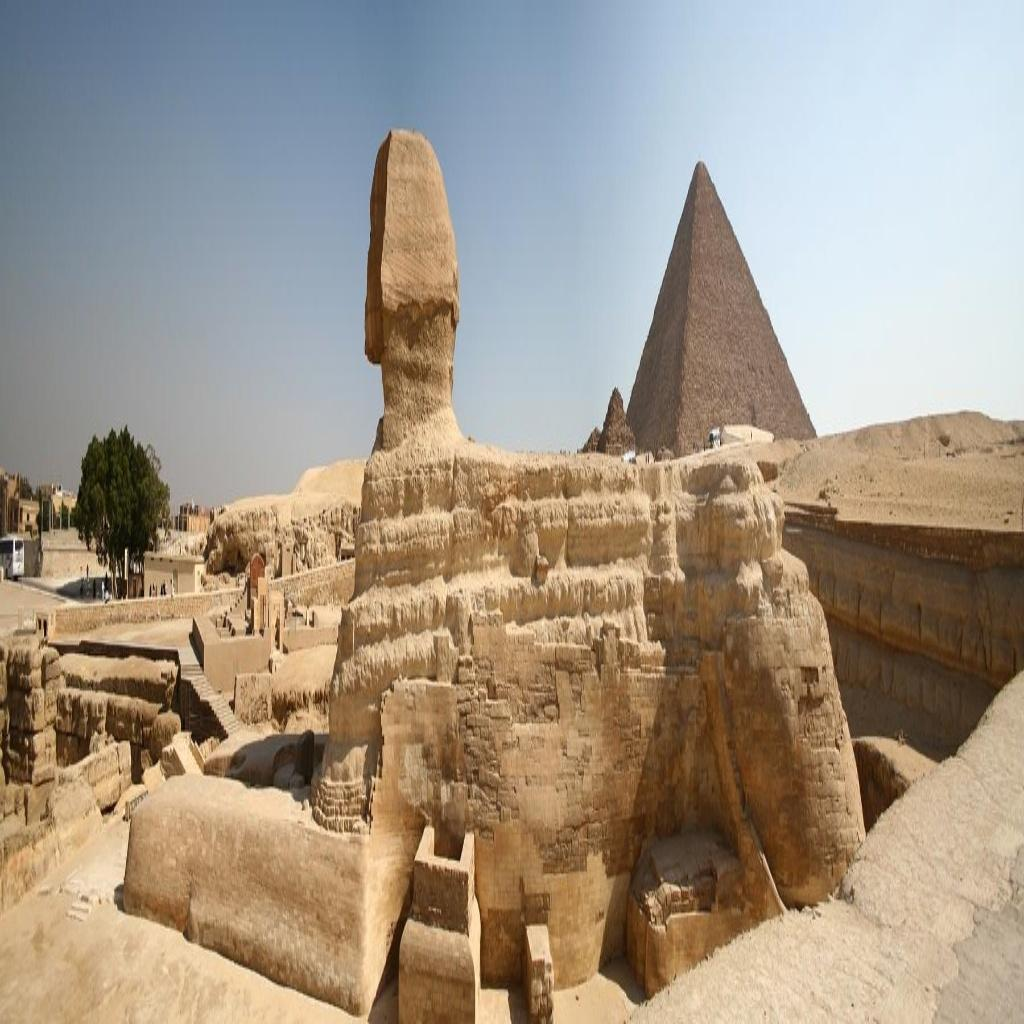Sphinx: (124, 126, 870, 1008)
